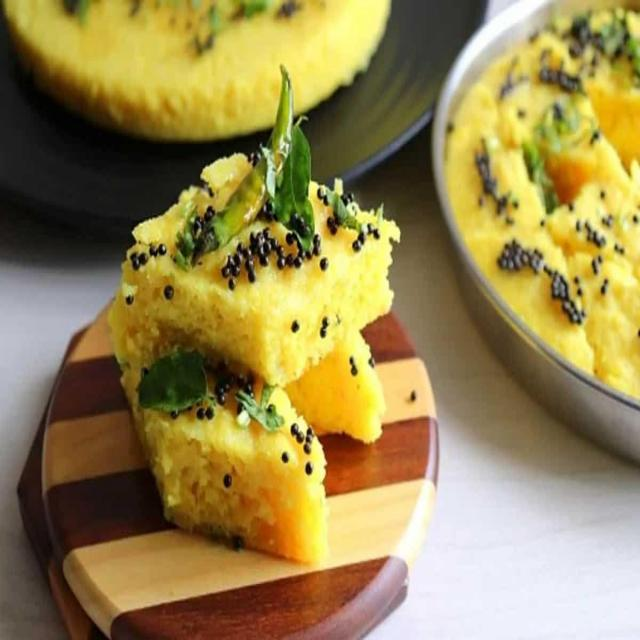dhokla: (112, 168, 394, 532), (457, 10, 640, 418)
